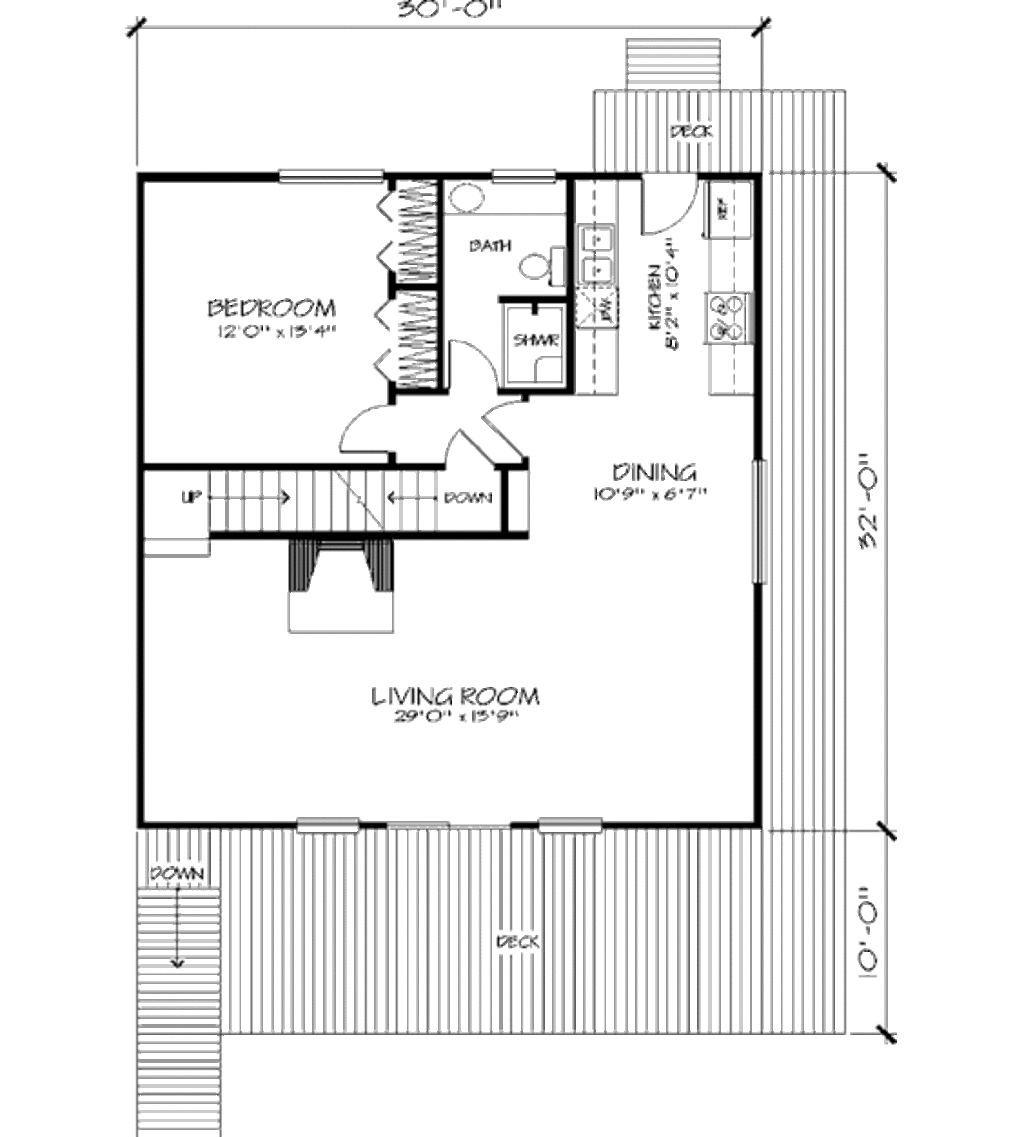door: (638, 163, 698, 238), (333, 399, 402, 461), (446, 326, 502, 392), (484, 400, 536, 466), (434, 428, 496, 471)
large_sink: (517, 231, 564, 295)
stairs: (210, 466, 505, 542), (140, 885, 222, 1137)
twin_sink: (576, 225, 622, 290)
window: (281, 161, 398, 194), (486, 157, 565, 194), (533, 814, 605, 842), (753, 459, 769, 581), (296, 819, 369, 835)
